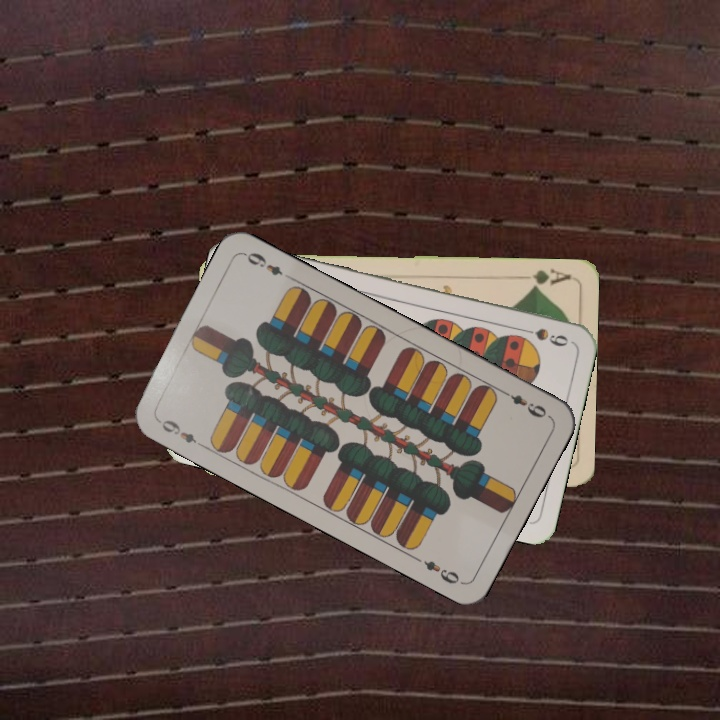E9: (153, 414, 207, 451), (497, 386, 552, 421)
GA: (514, 265, 573, 292)
S9: (514, 323, 571, 349)
